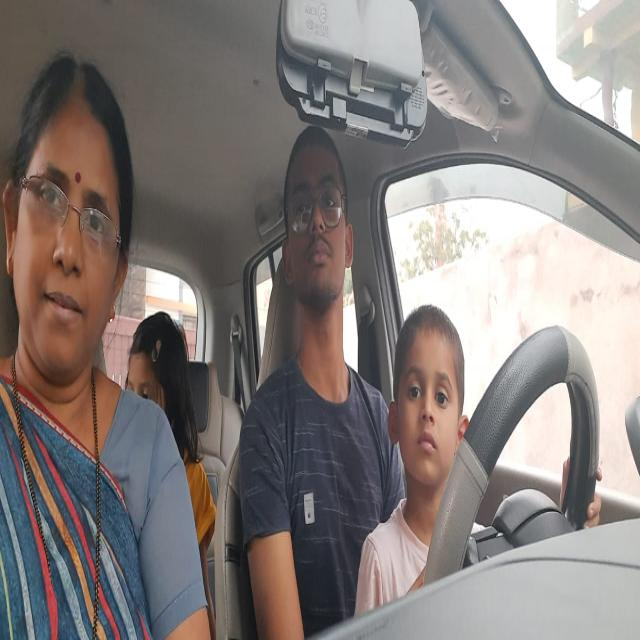child: (392, 320, 464, 482)
person: (4, 55, 129, 384), (281, 135, 357, 300), (133, 316, 187, 409)
